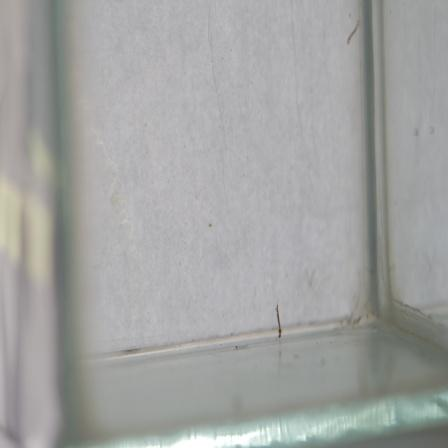Jentik-Nyamuk: (273, 299, 285, 341)
